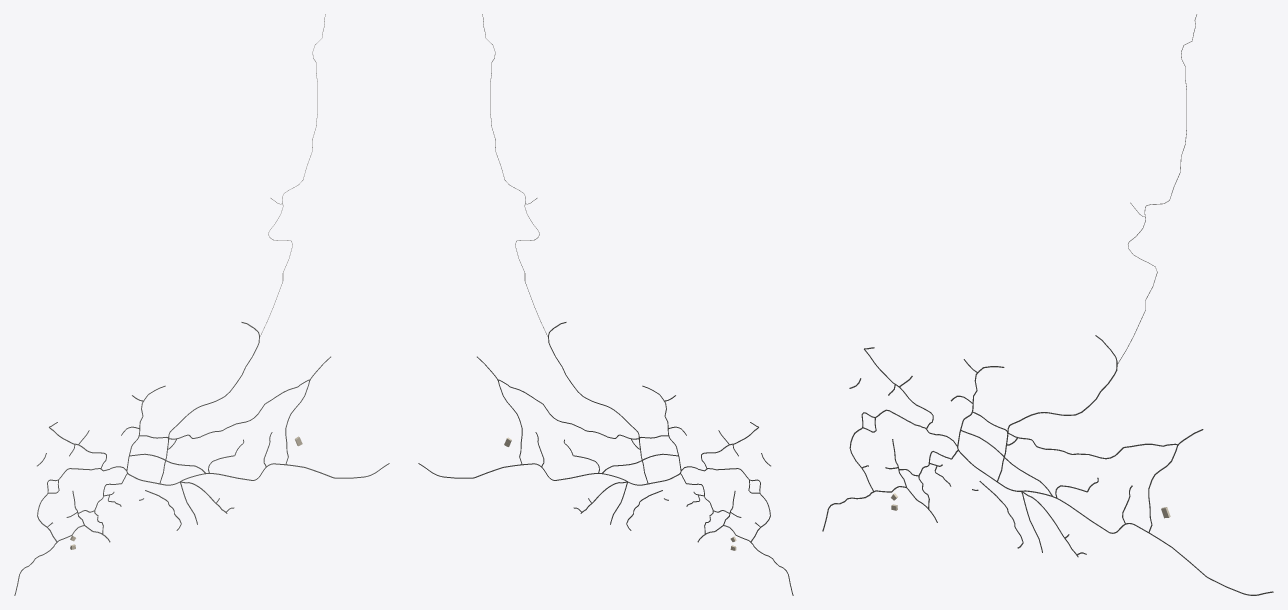
File: historic-palestine-09_28_3514_3222.glb
The picture shows the model from 3 angles, left to right: view 1: azimuth 30°, elevation 25°; view 2: azimuth 150°, elevation 25°; view 3: azimuth 330°, elevation 25°; orthographic projection. The views are drawn at different scales.
Visible parts, largest first — view 1: Road Beit Bizzin; view 2: Road Beit Bizzin; view 3: Road Beit Bizzin.
Boxes of the visible parts, x1,y1,x2,y2 form: Road Beit Bizzin: (126, 385, 389, 485); Road Beit Bizzin: (418, 385, 681, 485); Road Beit Bizzin: (957, 366, 1273, 595).
Bounding box in the file's own units: 1268 × 1634 × 8.89.
